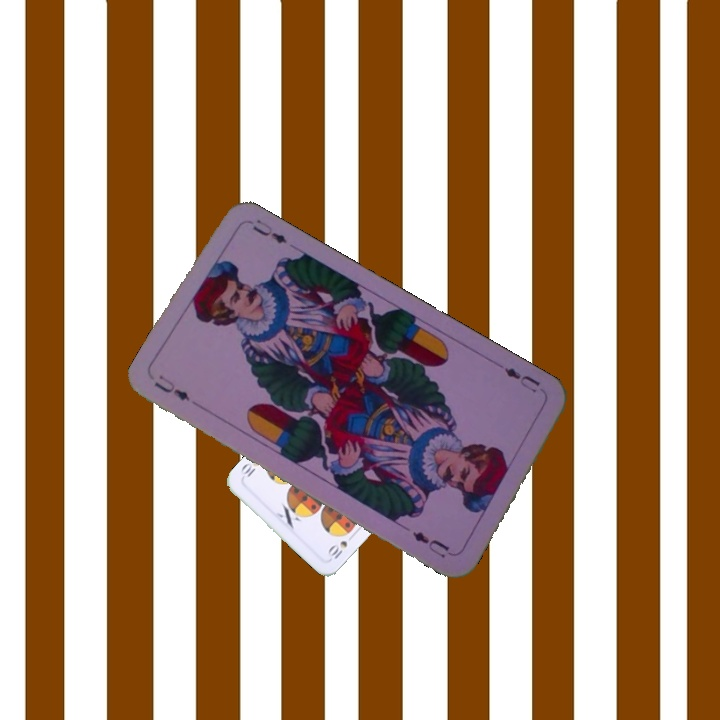EU: (500, 363, 543, 396), (150, 371, 193, 404)
S10: (323, 530, 356, 562)
